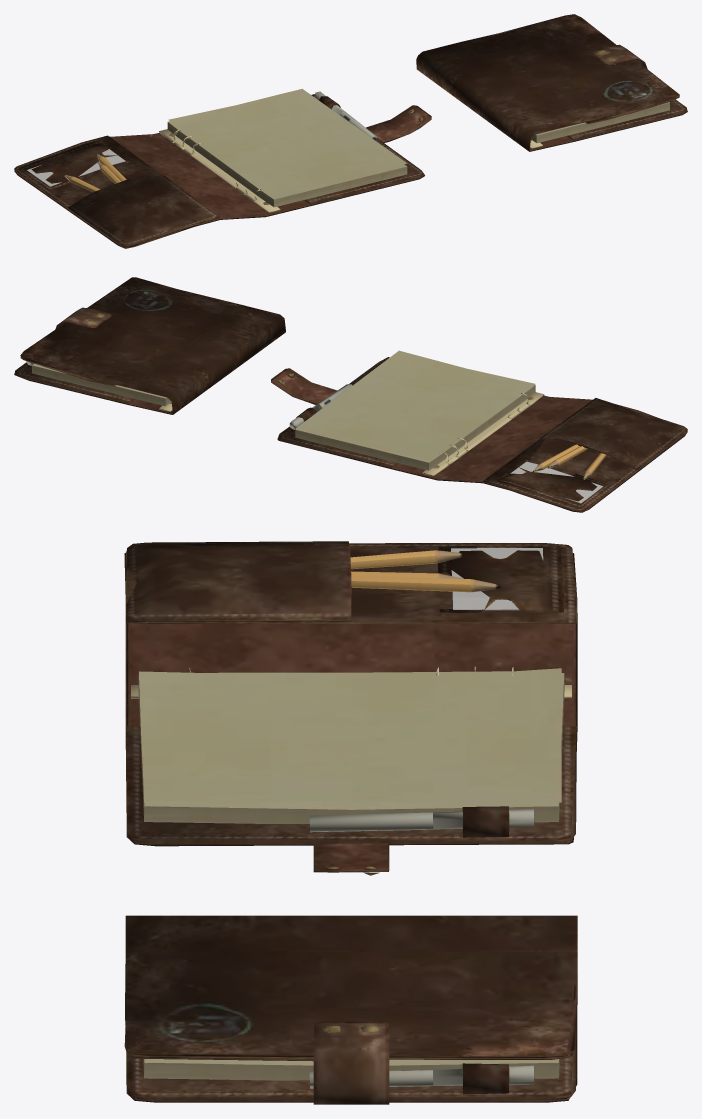
File: binder_notebook.glb
3 renders of one model, top to bottom at view 1: azimuth 30°, elevation 25°; view 2: azimuth 150°, elevation 25°; view 3: azimuth 270°, elevation 25°, orthographic. The views are drawn at different scales.
Visible parts, largest first — view 1: binder_notebook; view 2: binder_notebook; view 3: binder_notebook.
Boxes of the visible parts, left/top/right/bottom form: binder_notebook: left=14, top=14, right=687, bottom=248; binder_notebook: left=14, top=277, right=687, bottom=512; binder_notebook: left=124, top=541, right=577, bottom=1104.
Size of the model in its own units: 0.5835 by 0.0249 by 0.1996.
Materials: 1 (1 with a texture image).
